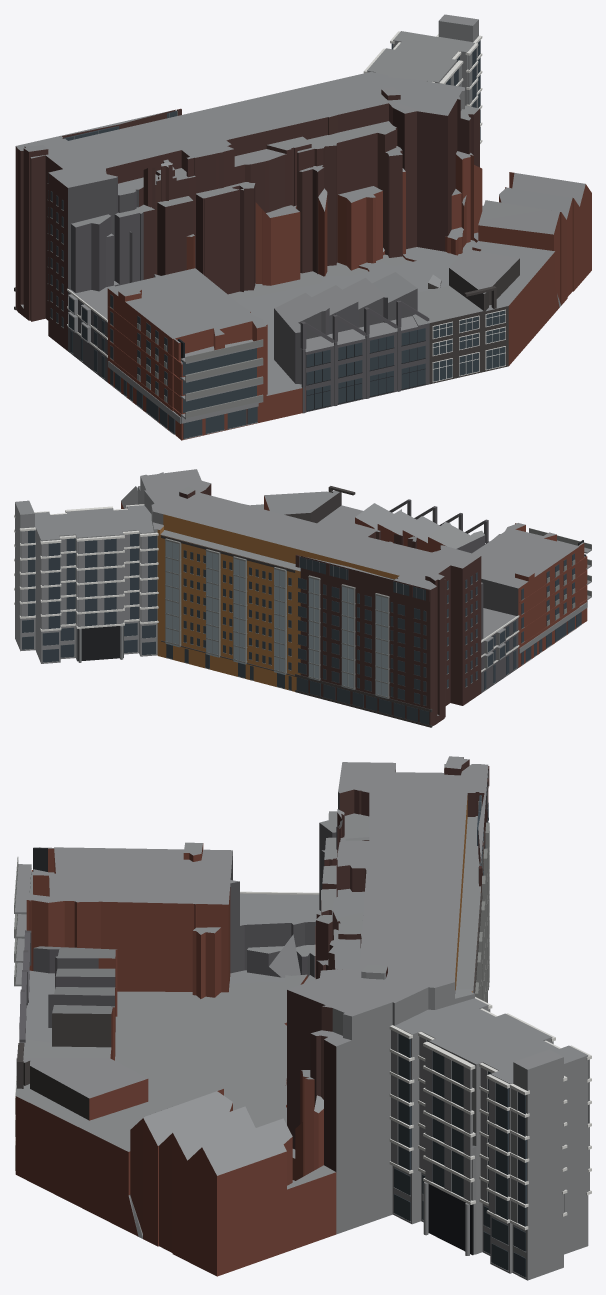
File: houthavenkade-26.glb
3 views of the same model, one above another, from view 1: azimuth 30°, elevation 25°; view 2: azimuth 150°, elevation 25°; view 3: azimuth 270°, elevation 25° (orthographic). The views are drawn at different scales.
Parts seen in each view (by area): view 1: houthavenkade-26; view 2: houthavenkade-26; view 3: houthavenkade-26.
Part boxes in pixels (<box>): houthavenkade-26: <box>14,14,591,440</box>; houthavenkade-26: <box>14,469,591,727</box>; houthavenkade-26: <box>14,756,591,1280</box>.
Size of the model in its own units: 90.69 by 29.77 by 71.03.
